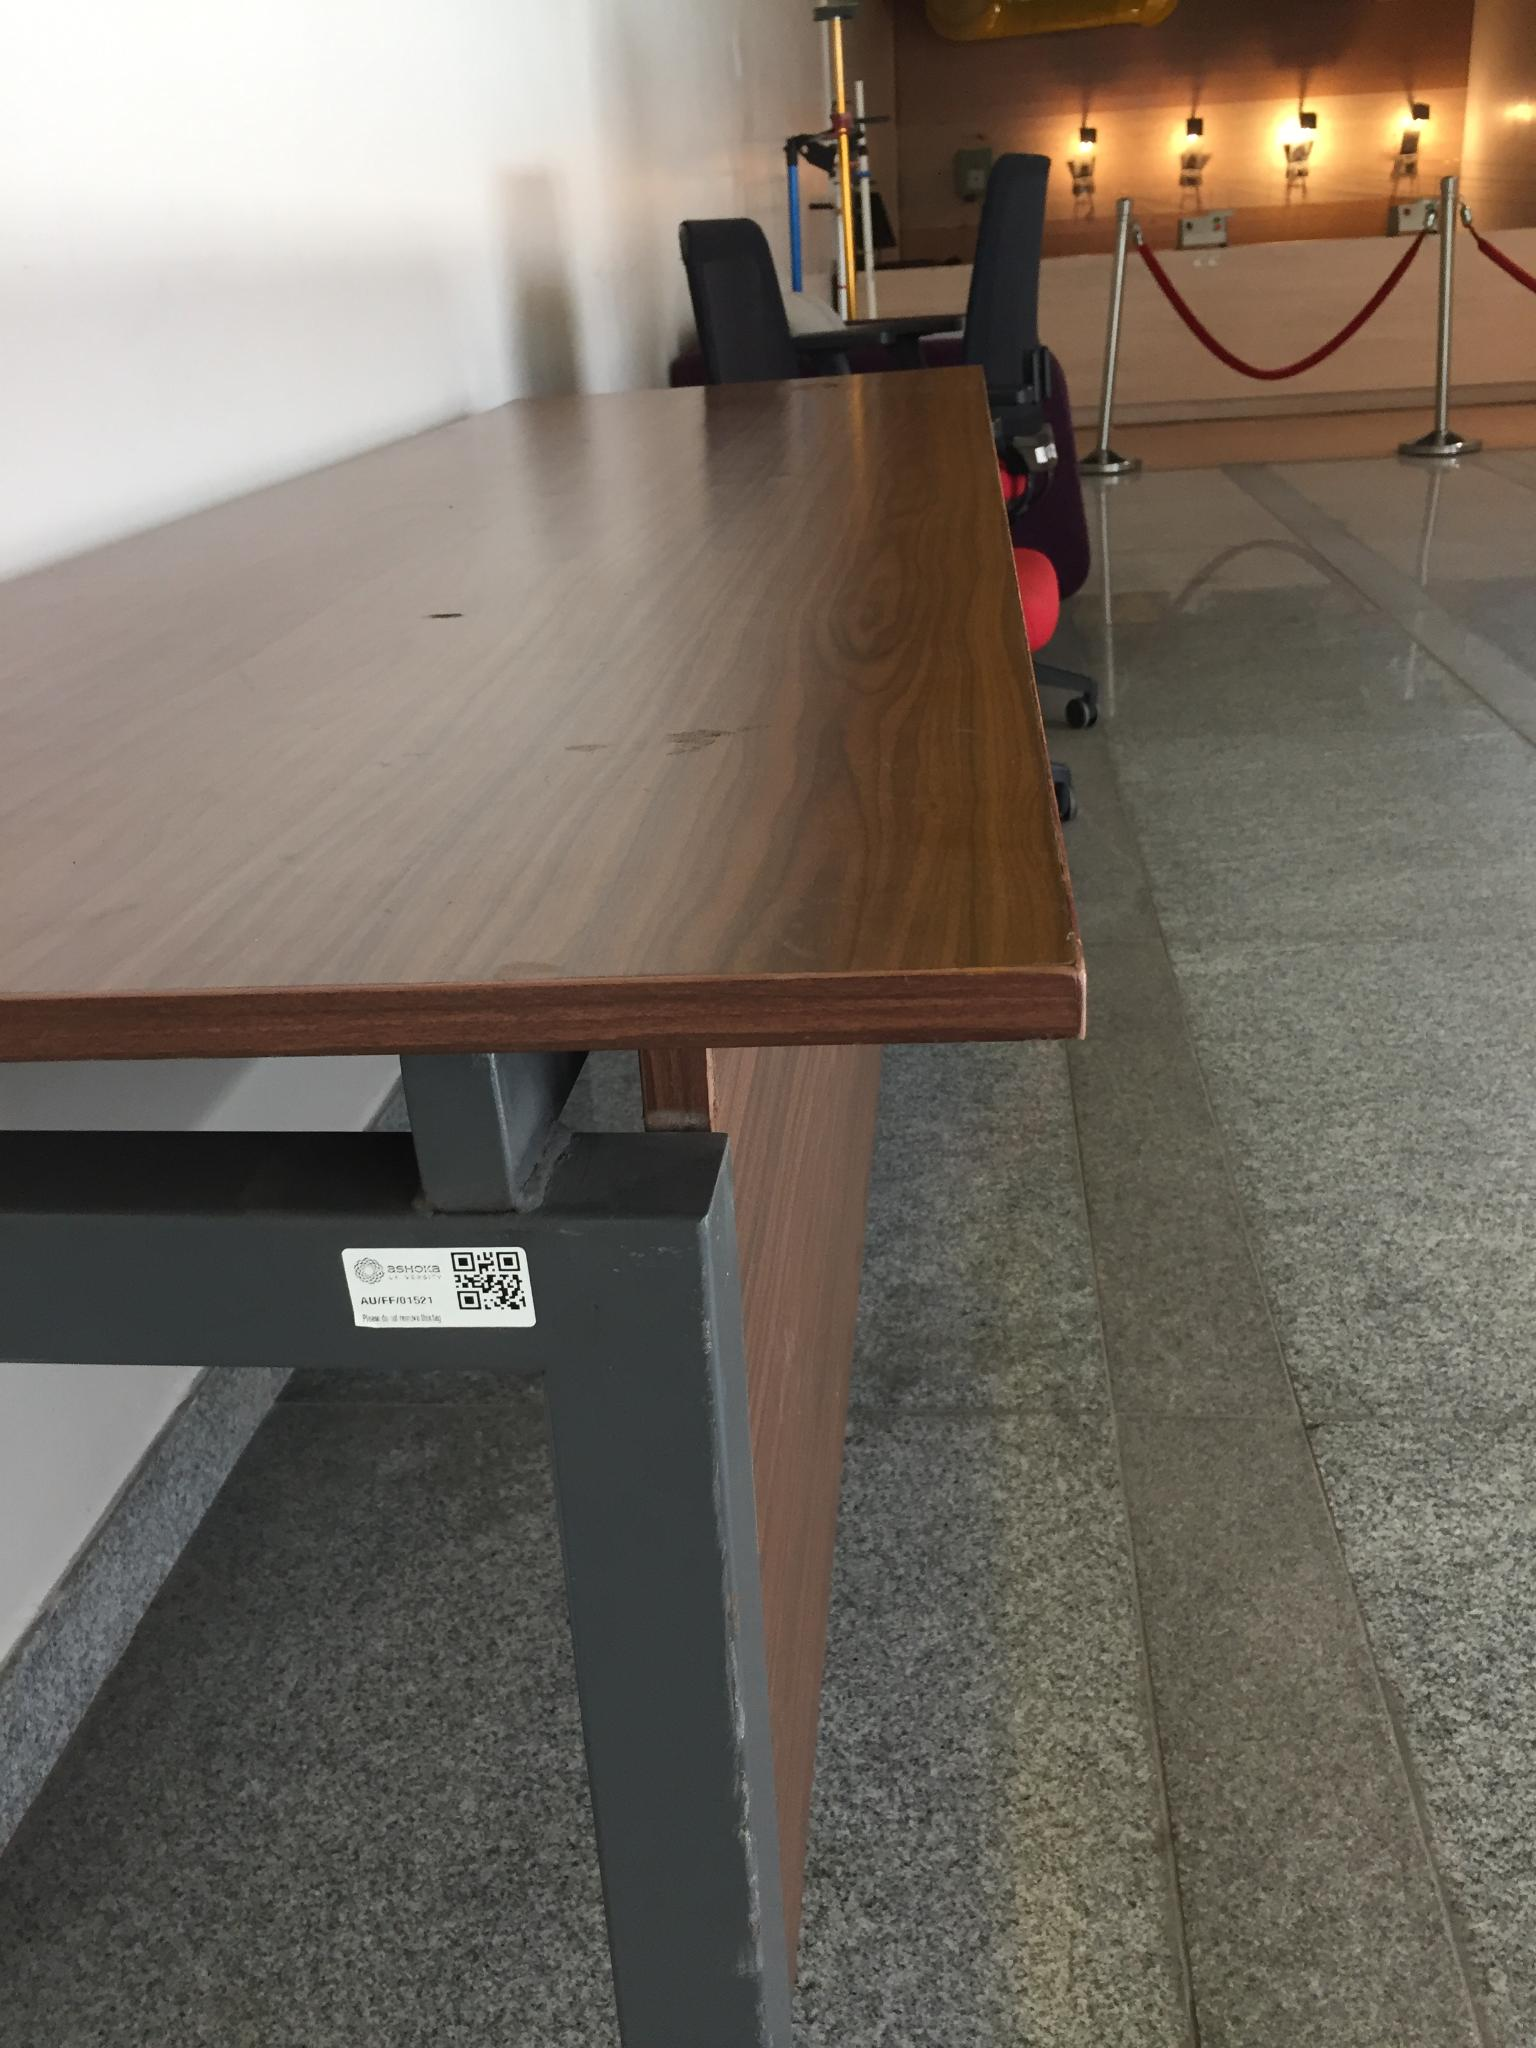chair: (660, 227, 1096, 842), (762, 158, 1091, 681)
